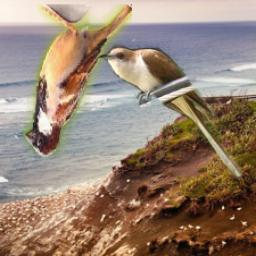Cuckoo: (97, 46, 242, 180)
Sparrow: (23, 4, 132, 157)
